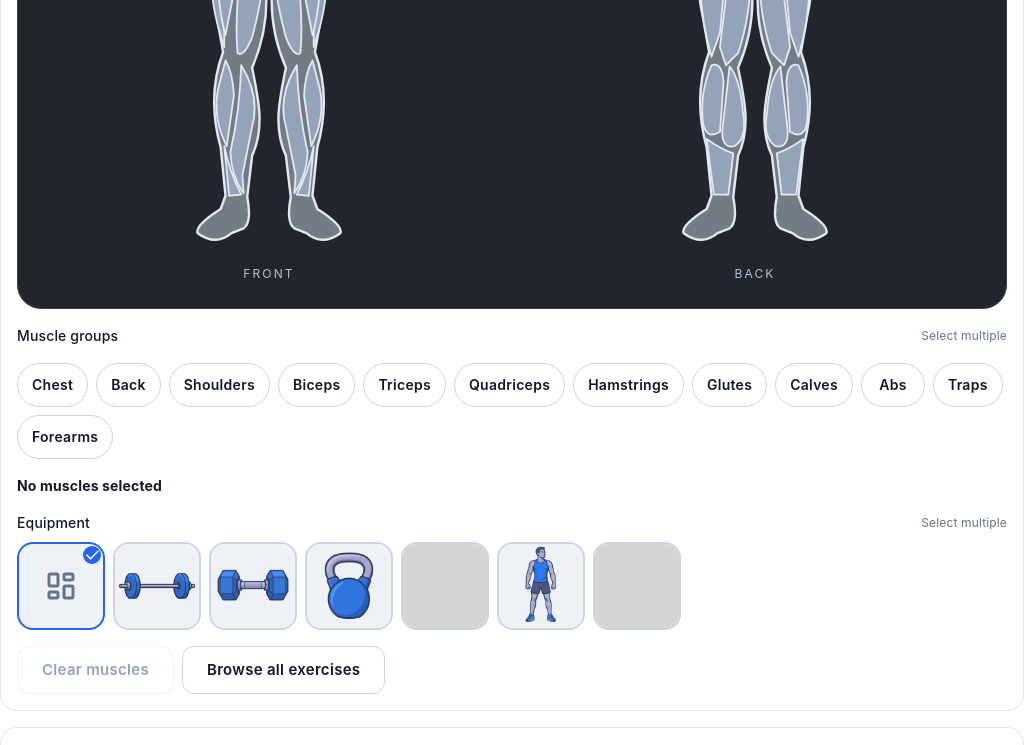
Scenario: EXERCISE-012 EXERCISE-013 EXERCISE-014 EXERCISE-015 ExerciseDiscovery › ignores obsolete responses after criteria changes
(page scrolled)
Click the button "Chest" at (53, 385), box top-left (17, 363), bottom-right (88, 407)
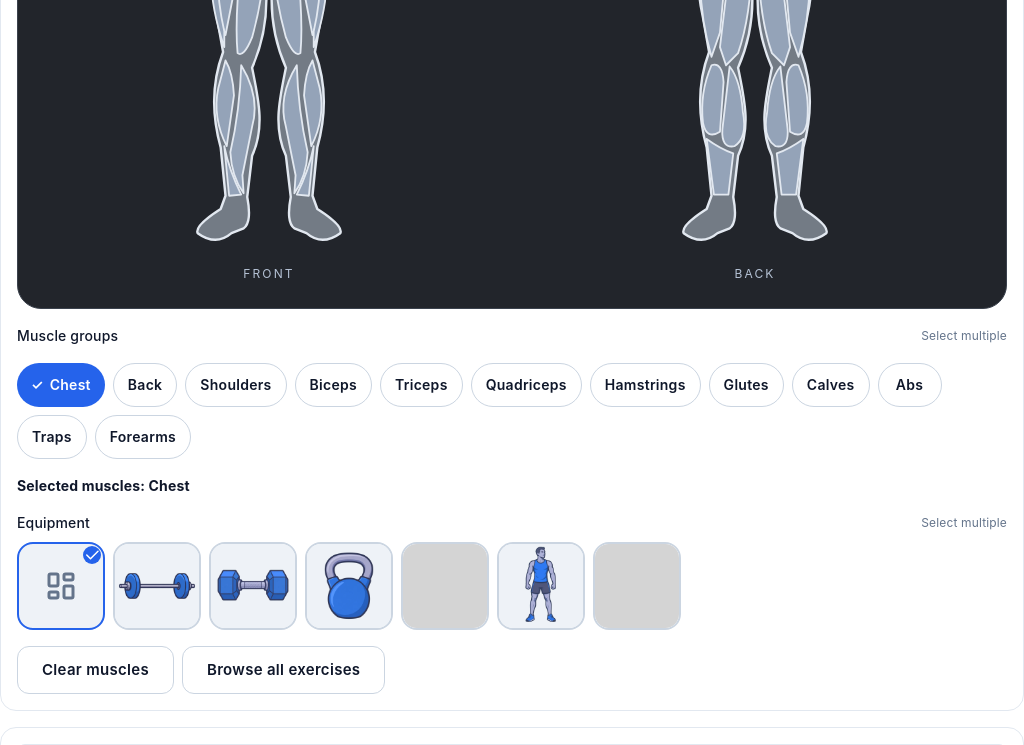
Click the button "Triceps" at (421, 385), box top-left (380, 363), bottom-right (463, 407)
(page scrolled)
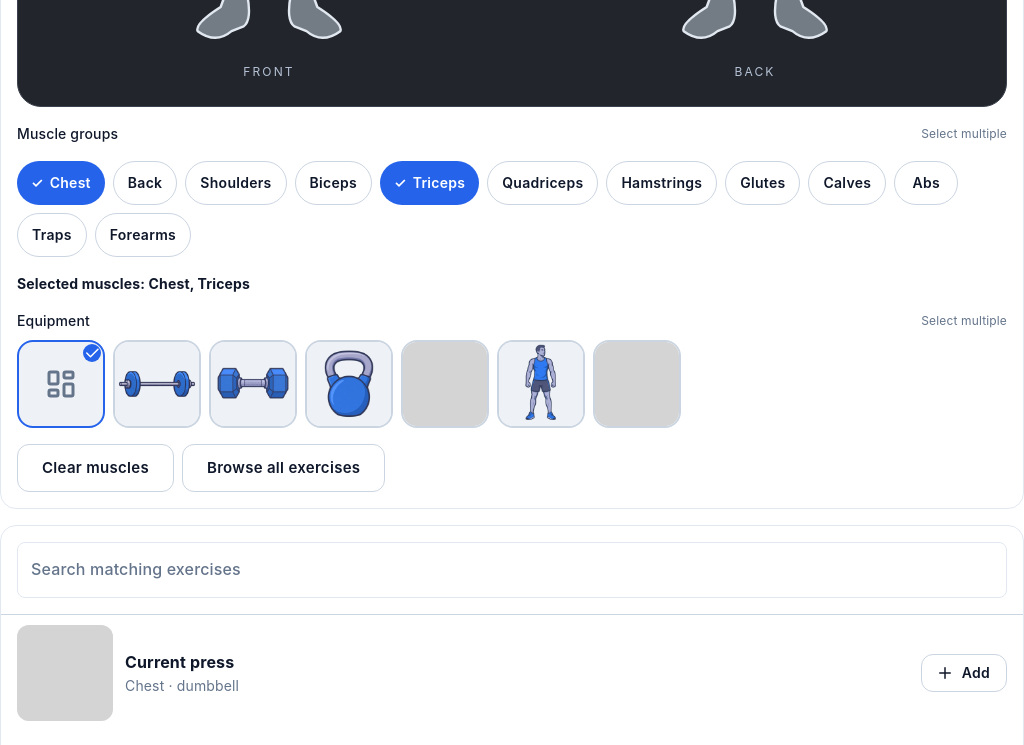
Now the text "Current press" is shown, box top-left (125, 652), bottom-right (234, 672)
